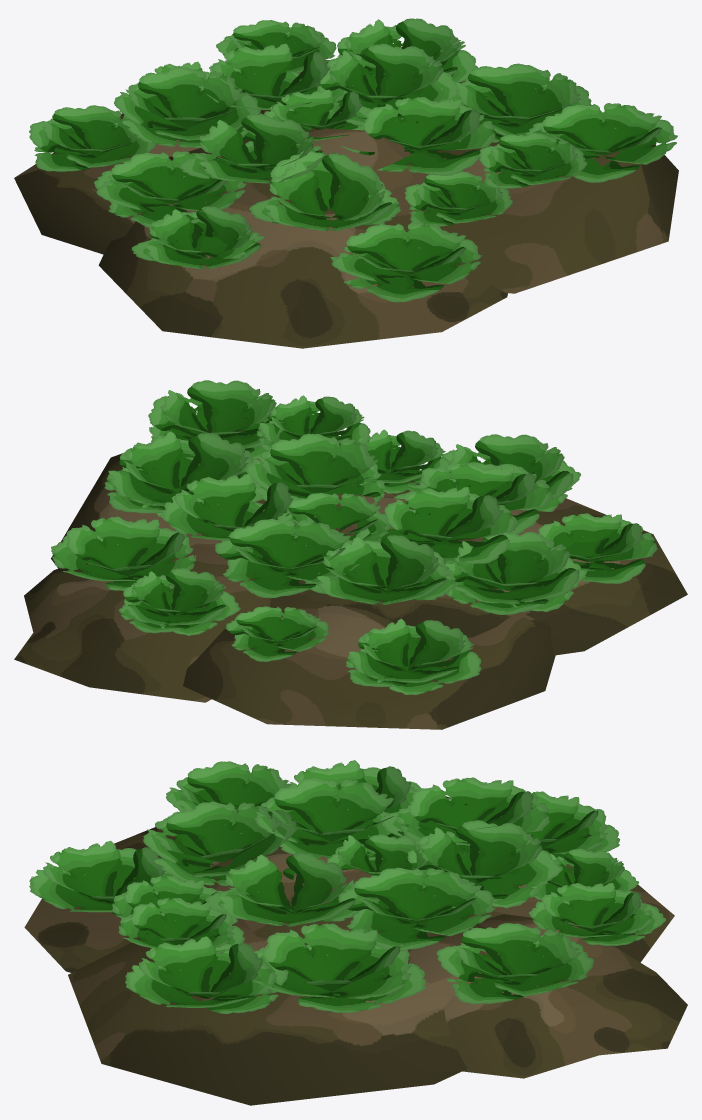
The model's file is Lettuce Coral 6_preview_3DS_simplified.glb.
3 views of the same model, one above another, from view 1: azimuth 30°, elevation 25°; view 2: azimuth 150°, elevation 25°; view 3: azimuth 270°, elevation 25° (orthographic). The views are drawn at different scales.
Parts seen in each view (by area): view 1: Marine Park Empire model; view 2: Marine Park Empire model; view 3: Marine Park Empire model.
Boxes of the visible parts, bbox=[...] form: Marine Park Empire model: bbox=[14, 18, 678, 348]; Marine Park Empire model: bbox=[14, 380, 687, 729]; Marine Park Empire model: bbox=[24, 760, 687, 1105].
Size of the model in its own units: 196 by 38.27 by 195.
2 materials, 2 textured.
